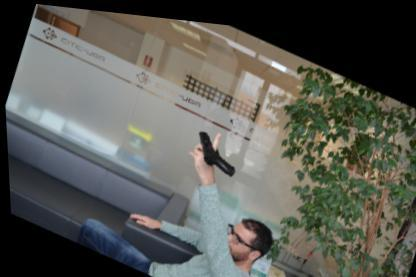pistol: (188, 123, 242, 173)
